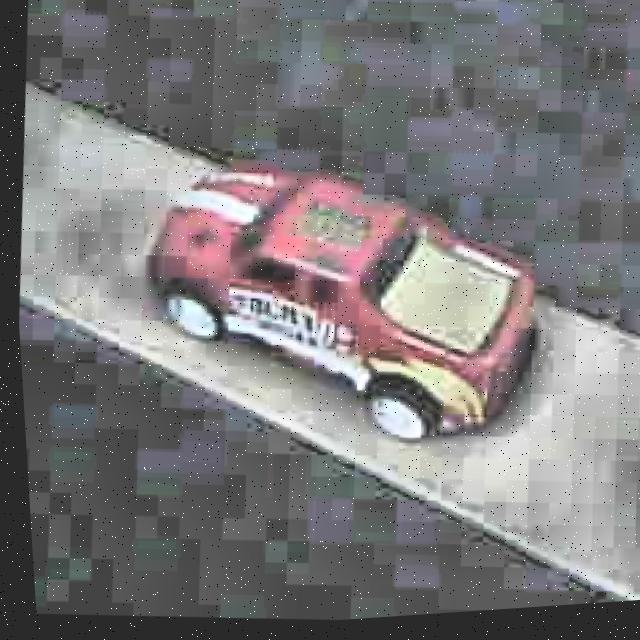car: (122, 134, 559, 475)
